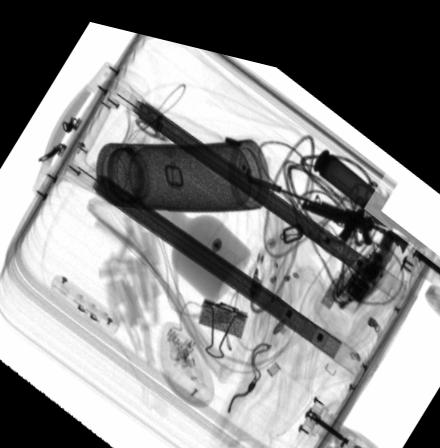Bullet: (312, 132, 427, 226)
Gun: (246, 163, 409, 236)
